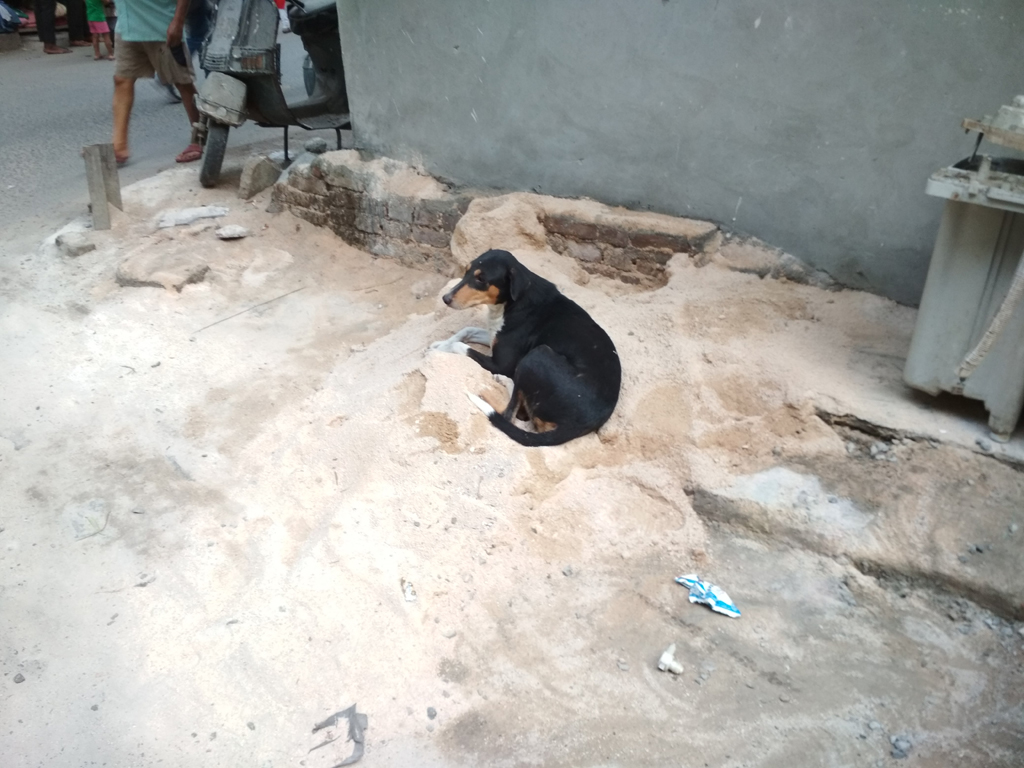dog: (428, 250, 623, 448)
